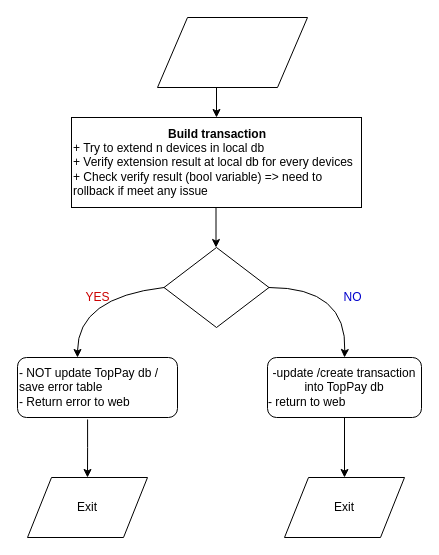
The diagram is 439 pixels wide and 555 high, and some of its shapes have lost their labels. Each missing label, with the centre of its shape:
"Extend (n) Devices" goes at point 232,52.
"Rollback ?" goes at point 216,287.
